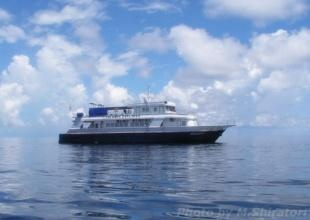otherboat: (51, 92, 235, 144)
